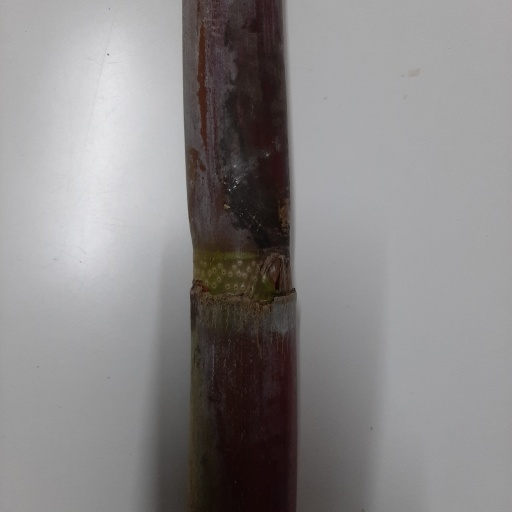Bud: (262, 255, 287, 294)
